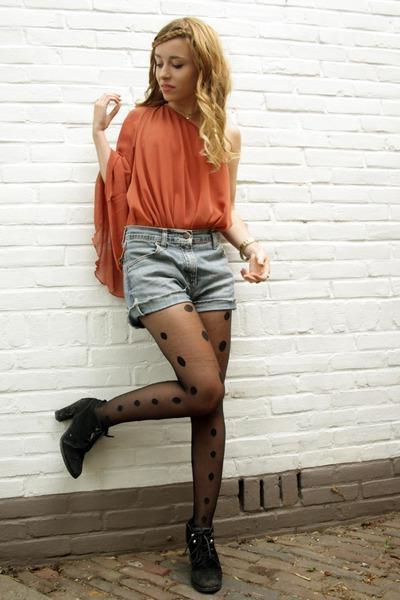Shorts: (113, 221, 237, 325)
short sleeve shirt: (97, 100, 241, 231)
